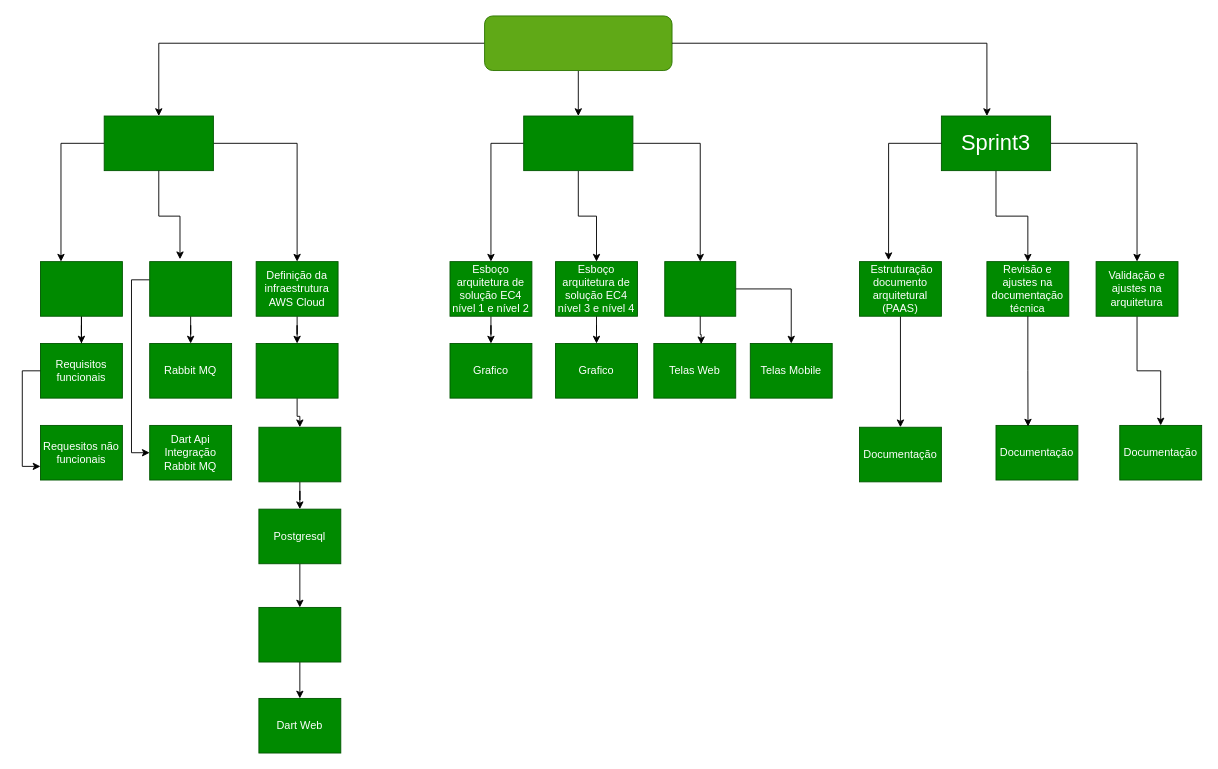
Some shapes in this 1218 by 769 pixel diagram are drawn without their labels. The shapes that lost their labels are listed below. From the top down, each one's centre as x and y in pixels, then its label:
At pixel 578 43: "Pet Shop".
At pixel 158 143: "Sprint1".
At pixel 578 143: "Sprint2".
At pixel 81 288: "Plenajamento do projeto".
At pixel 190 288: "Estudo da mensageria".
At pixel 700 288: "Criando telas web e mobile".
At pixel 296 370: "EC2".
At pixel 299 454: "Docker".
At pixel 299 634: "Dart APi".
